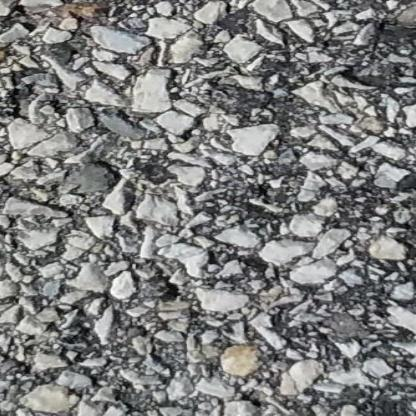Cracks: (366, 14, 416, 104), (412, 164, 416, 316)
